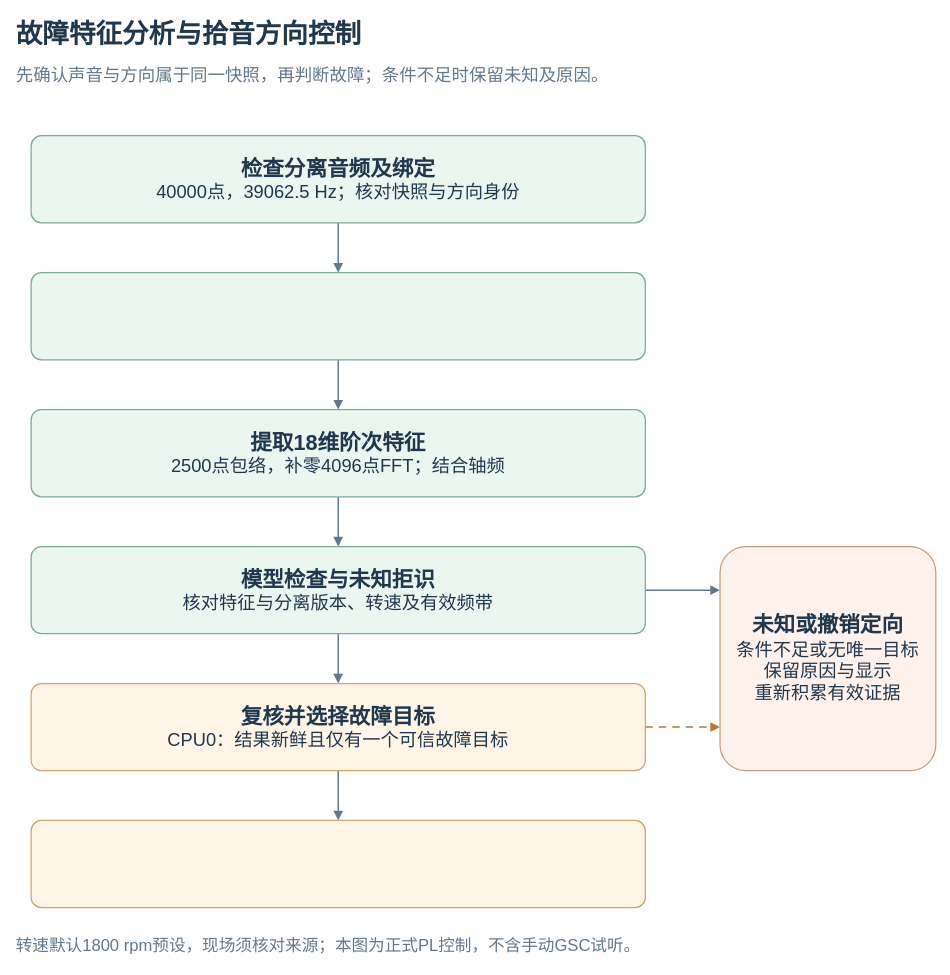
Image size: 950x975. Some labels were removed from this diagram. The box of each missing label's shape, as (x1, y1, x2, y2) in pixels:
提交九路延迟并读回 PL原子接纳，DAS按样点应用；不改手动GSC: (30, 819, 646, 908)
提取长窗包络 2200—4600 Hz解析带通；两级抽取: (30, 272, 646, 360)
